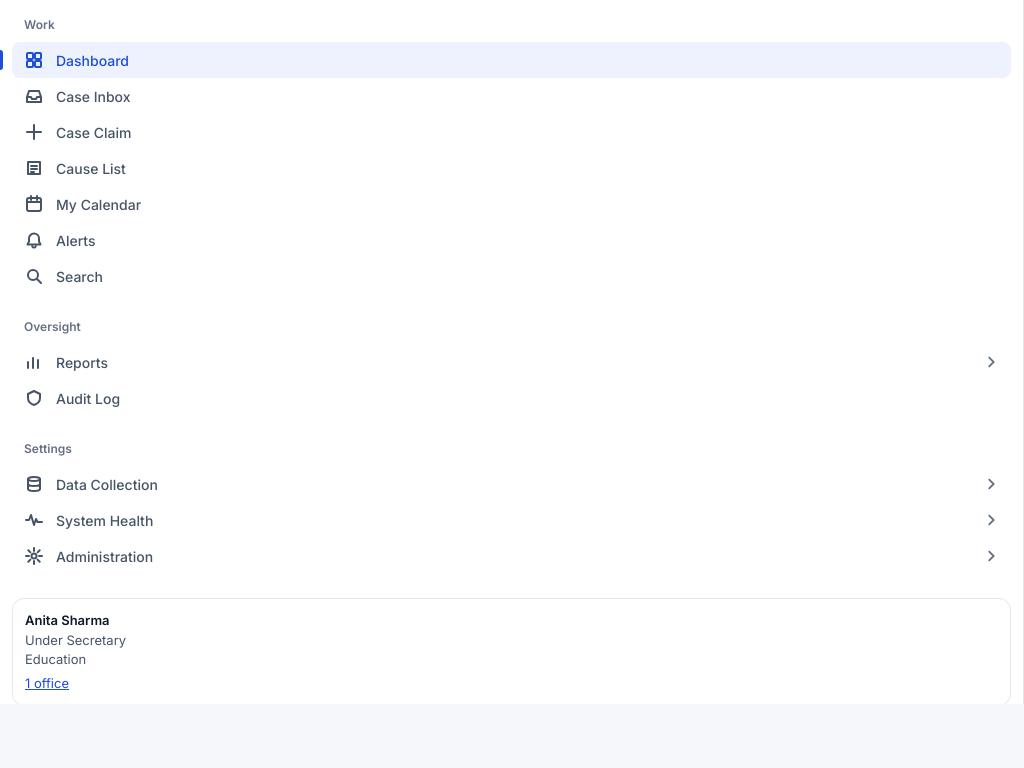
Test: the one-level side menu (design portal-ui-polish-2, decisions 14-19) › a parent toggles aria-expanded and opening one closes the other
Click the list item "Administration": [105, 556] box [25,547,999,565]
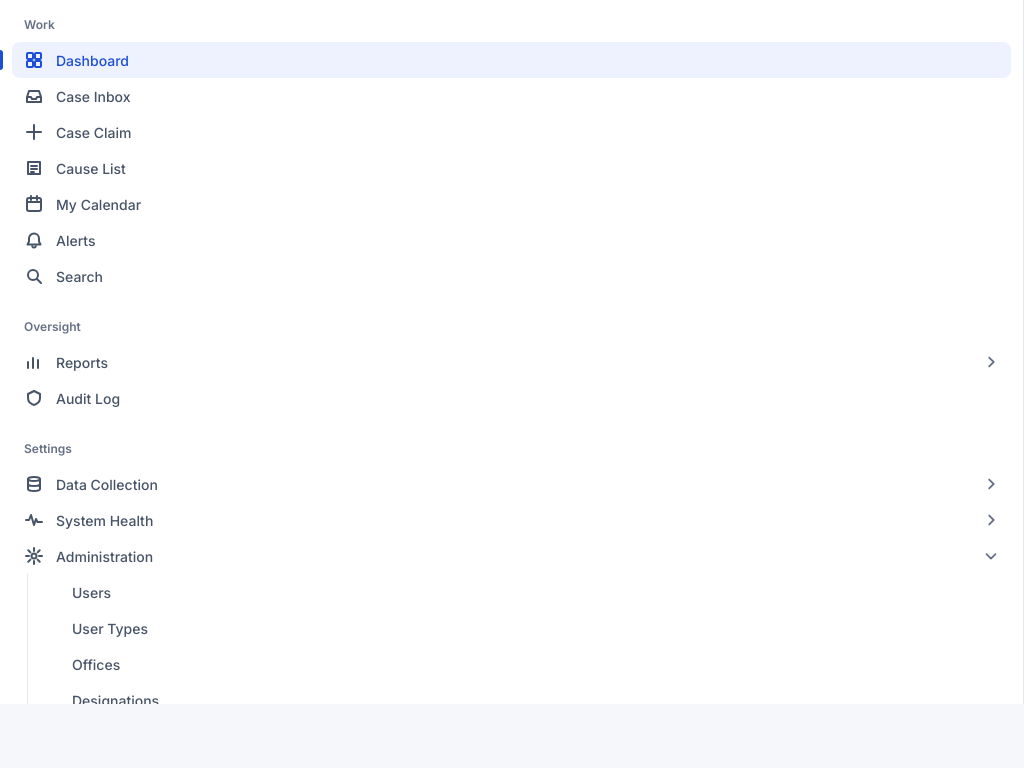
expect the list item "Administration" is expanded: met, box [25,547,999,565]
expect the list named "Administration" is shown: met, box [27,574,1011,704]
Click the list item "Reports": [82, 362] box [25,353,999,371]
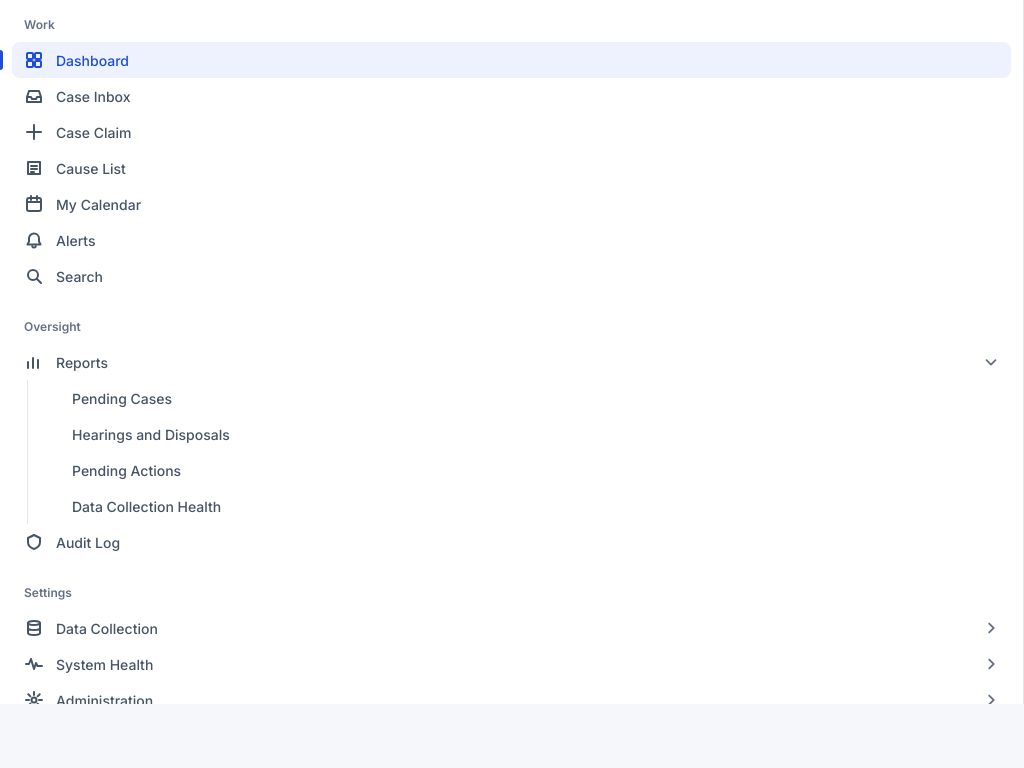
expect the list item "Reports" is expanded: met, box [25,353,999,371]
expect the list item "Administration" is collapsed: met, box [25,691,999,704]
